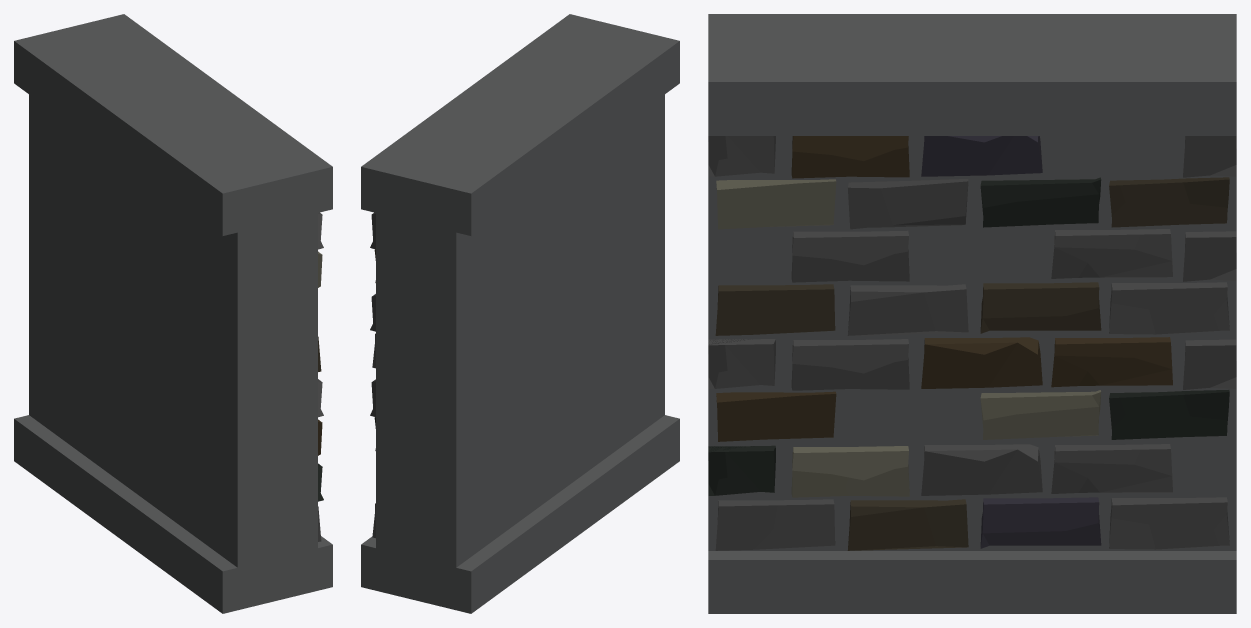
Rendered from Wall4.fbx.
3 views of the same model, side by side, from view 1: azimuth 30°, elevation 25°; view 2: azimuth 150°, elevation 25°; view 3: azimuth 270°, elevation 25° (orthographic). The views are drawn at different scales.
Visible parts, largest first — view 1: Cube.243; view 2: Cube.243; view 3: Cube.243.
Part boxes in pixels (x1=…): Cube.243: x1=14, y1=14, x2=332, y2=613; Cube.243: x1=361, y1=14, x2=679, y2=613; Cube.243: x1=708, y1=14, x2=1236, y2=613.
Size of the model in its own units: 137 by 500 by 450.
